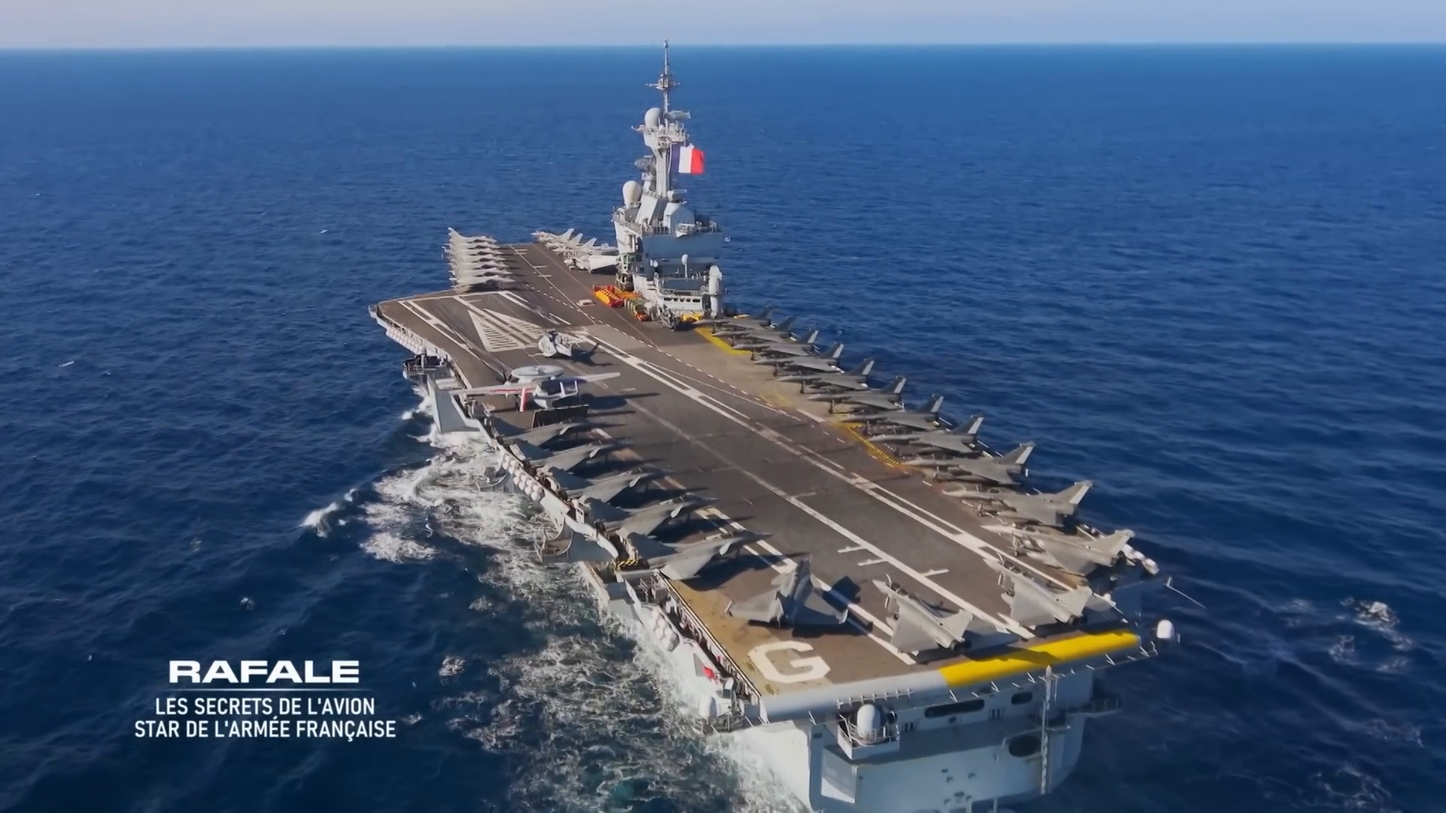Rafale: (724, 553, 850, 631), (992, 520, 1139, 583), (619, 523, 775, 582), (870, 576, 975, 659), (995, 562, 1109, 634), (585, 493, 721, 551), (944, 479, 1094, 526), (508, 437, 636, 487), (900, 438, 1036, 485), (547, 466, 673, 513), (867, 412, 984, 460), (486, 415, 610, 453), (837, 395, 945, 435), (806, 376, 908, 415), (776, 359, 875, 395), (752, 342, 843, 377), (731, 330, 819, 363), (710, 315, 799, 346)
